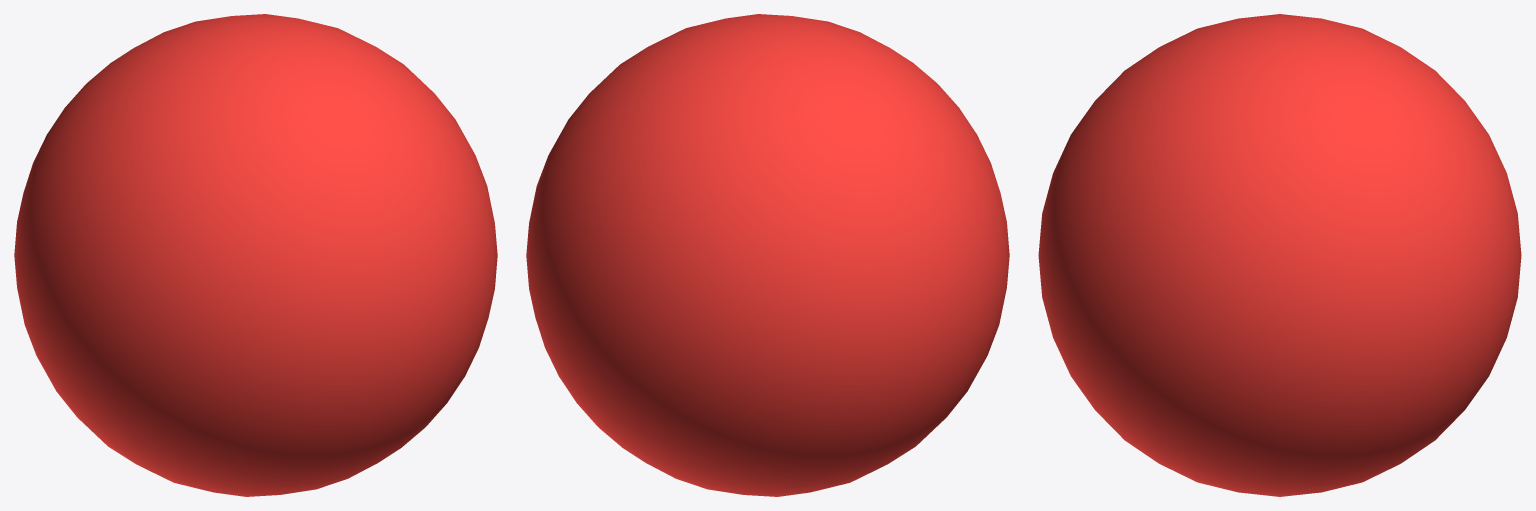
The picture shows the model from 3 angles, left to right: view 1: azimuth 30°, elevation 25°; view 2: azimuth 150°, elevation 25°; view 3: azimuth 270°, elevation 25°; orthographic projection.
Visible parts, largest first — view 1: Tennis Ball _ Red; view 2: Tennis Ball _ Red; view 3: Tennis Ball _ Red.
Part boxes in pixels (left/top/right/bottom): Tennis Ball _ Red: left=14, top=14, right=497, bottom=496; Tennis Ball _ Red: left=526, top=14, right=1009, bottom=496; Tennis Ball _ Red: left=1038, top=14, right=1521, bottom=496.
Size of the model in its own units: 0.2408 by 0.2404 by 0.2413.
